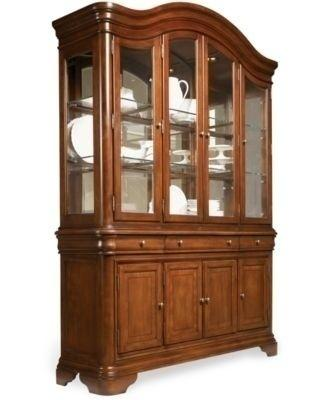cabinet_door: (113, 40, 161, 218), (166, 36, 205, 223), (206, 59, 238, 226), (118, 261, 164, 353), (238, 75, 266, 222), (165, 260, 204, 345), (204, 258, 237, 338), (238, 257, 271, 331), (165, 234, 239, 253), (116, 236, 165, 254), (239, 234, 272, 251)
handle: (200, 127, 210, 143), (136, 238, 148, 249), (175, 239, 185, 251), (155, 120, 162, 135), (157, 299, 164, 314), (253, 238, 263, 248), (240, 136, 249, 147), (203, 295, 210, 308), (225, 238, 234, 248), (239, 290, 246, 302)
